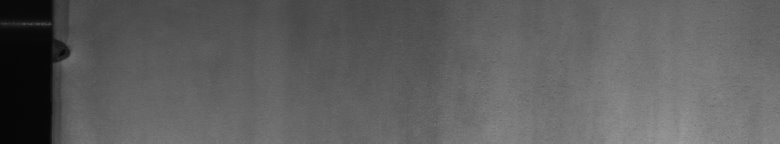hb: (64, 4, 77, 68)
